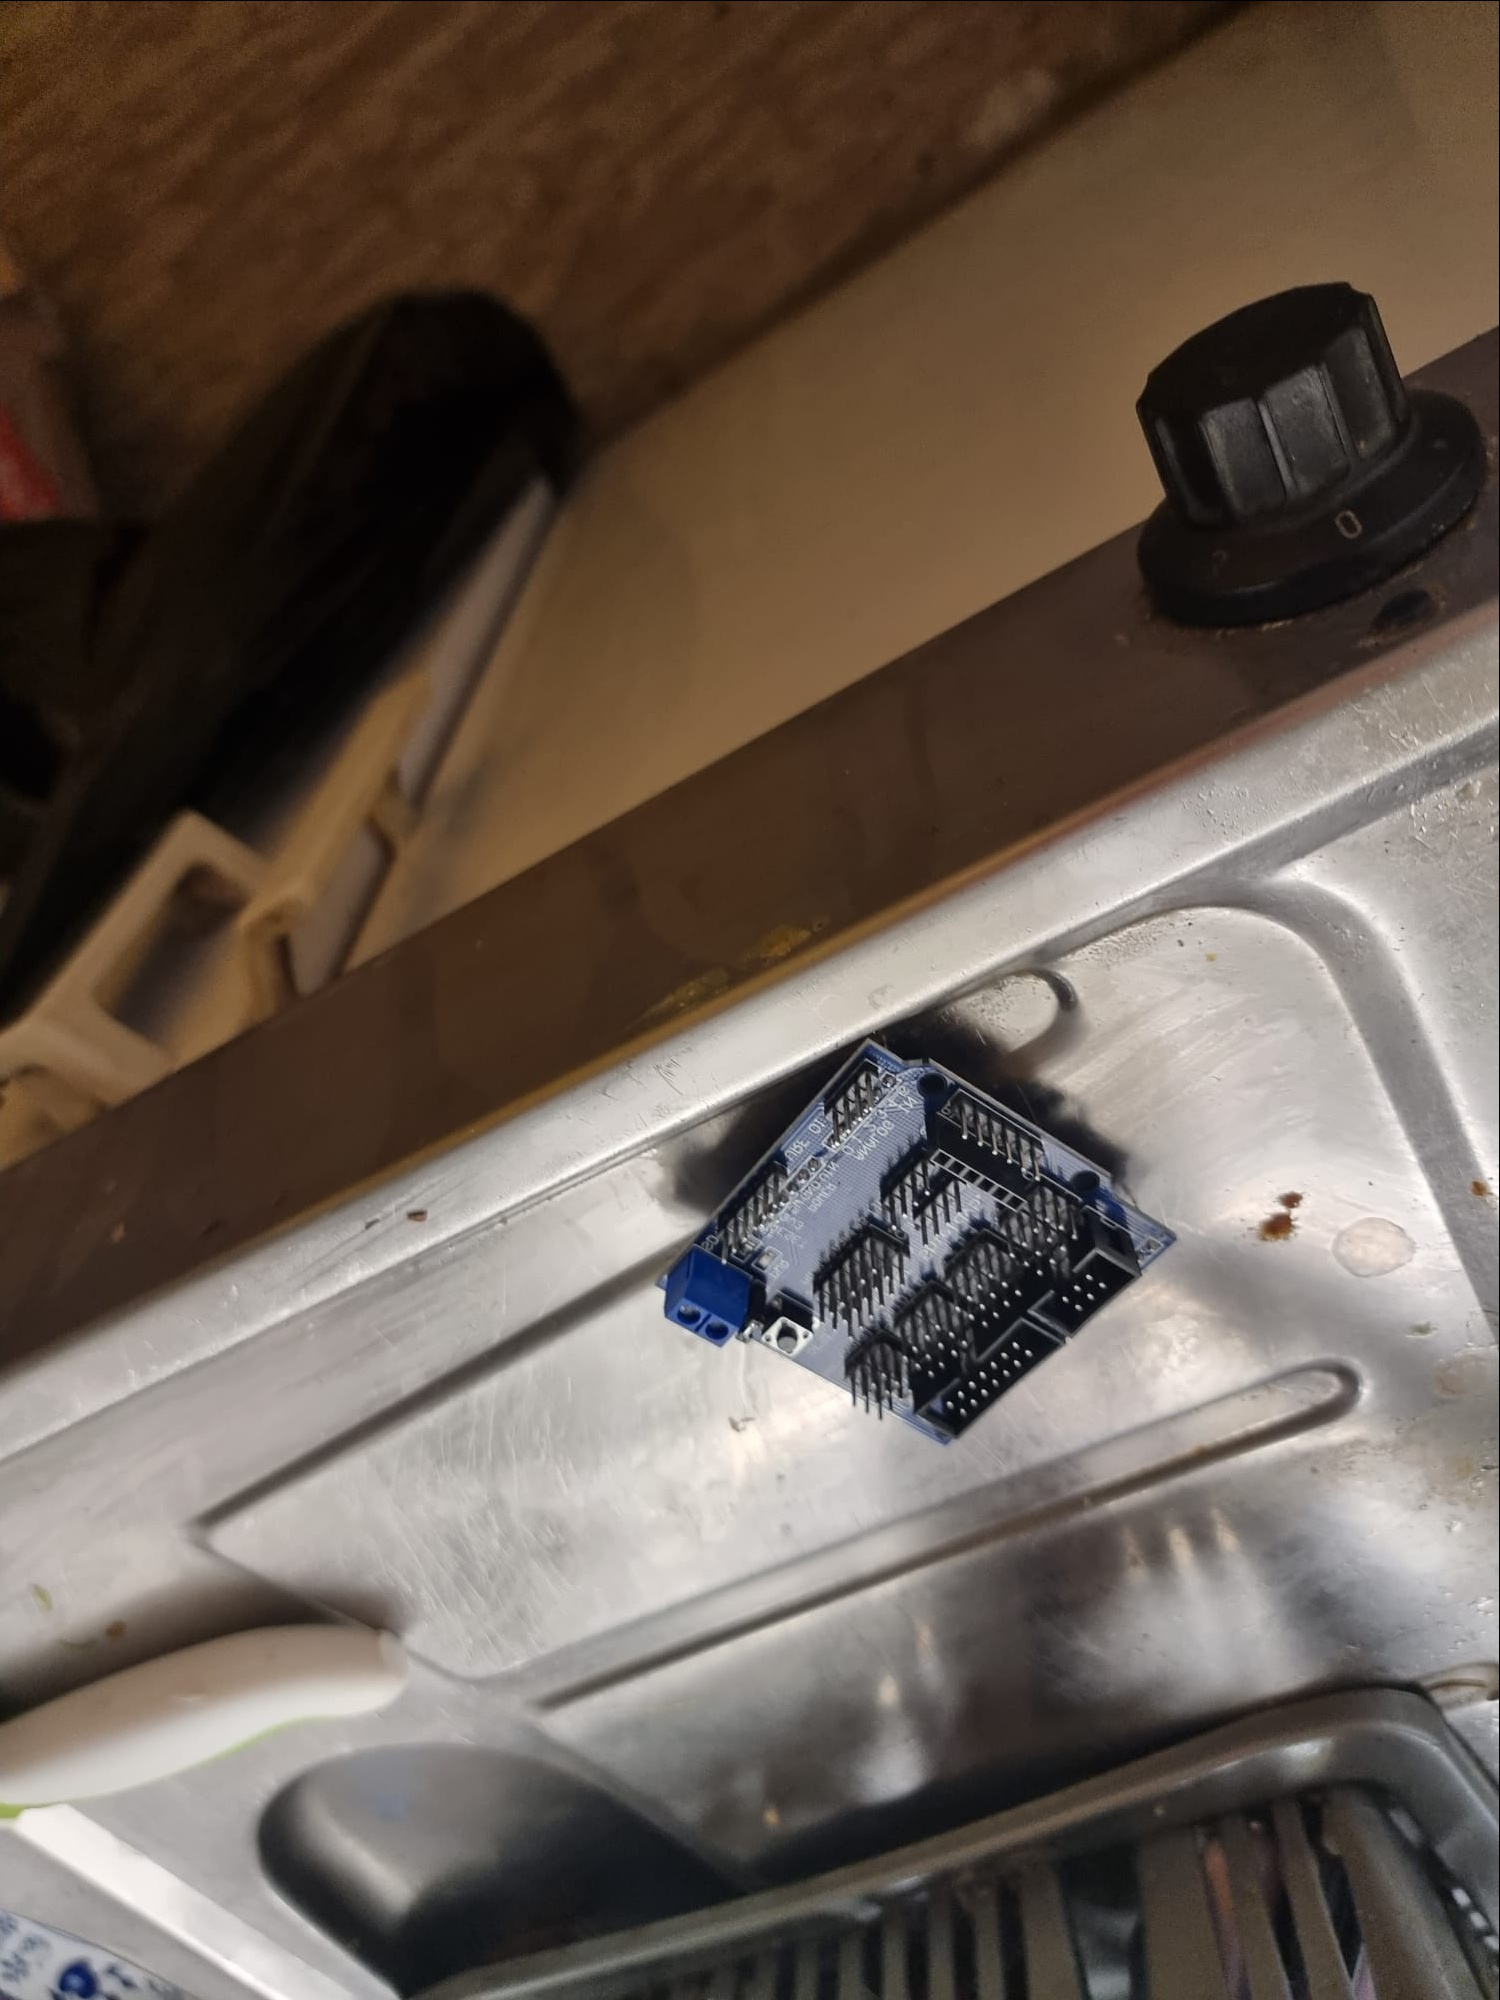5V EXPANSION: (684, 1043, 1186, 1457)
